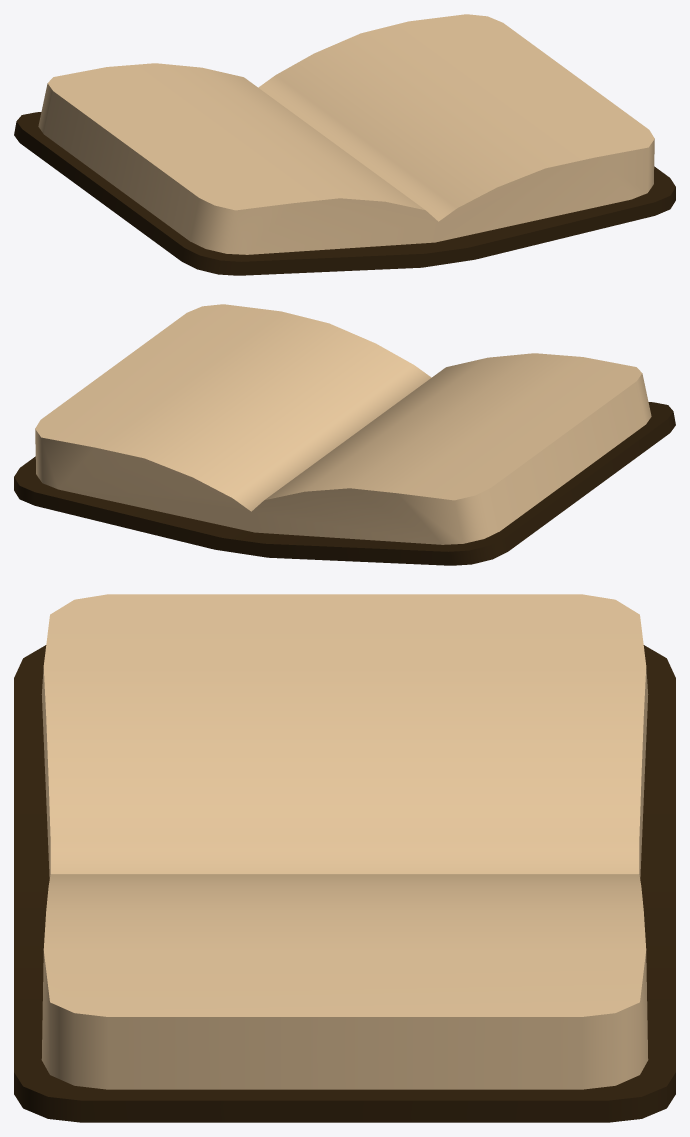
Rendered from book_opened.fbx.
3 renders of one model, top to bottom at view 1: azimuth 30°, elevation 25°; view 2: azimuth 150°, elevation 25°; view 3: azimuth 270°, elevation 25°, orthographic. The views are drawn at different scales.
Parts seen in each view (by area): view 1: book_open; view 2: book_open; view 3: book_open.
Boxes of the visible parts, <box> form: book_open: <box>14,14,675,275</box>; book_open: <box>14,304,675,565</box>; book_open: <box>14,594,675,1122</box>.
Size of the model in its own units: 78.82 by 15.51 by 57.18.
